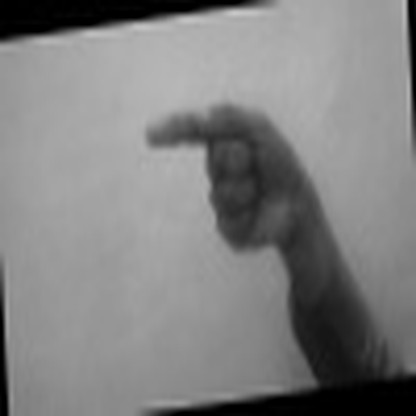g: (128, 75, 337, 257)
